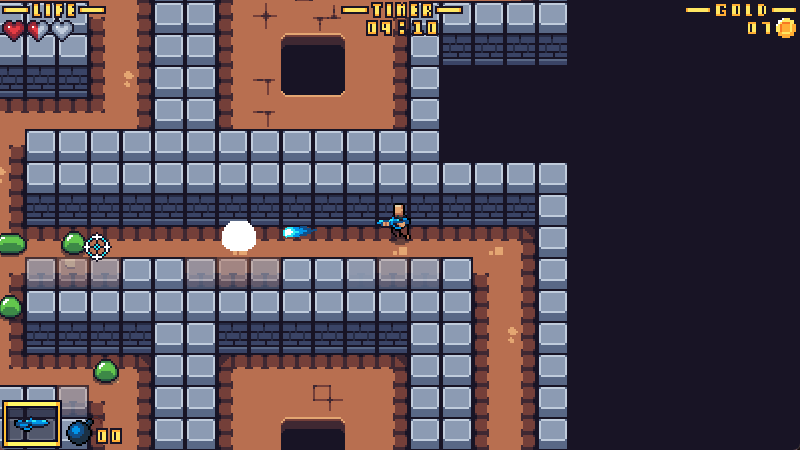enemy_slug: (60, 231, 86, 255), (1, 232, 27, 254), (94, 360, 118, 382), (1, 296, 22, 320)
enemy_slug_hit: (219, 218, 259, 252)
health-3: (1, 20, 76, 42)
player: (375, 205, 412, 242)
shoot: (279, 225, 319, 238)
